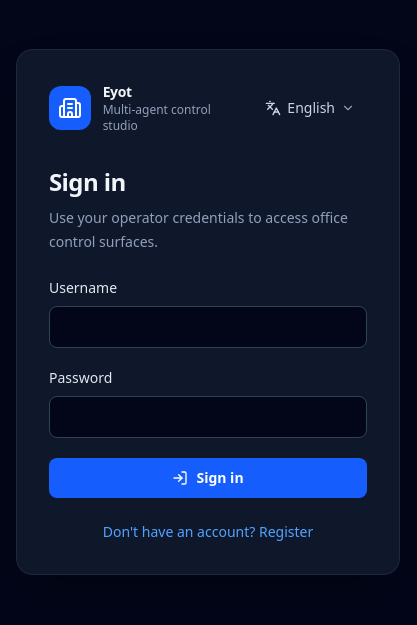
Test case: LoginPage › shows an authentication error after a 401 response
Type "operator" into the field labelled "Username". click: coordinates (208, 327)
box: [49,306,367,348]
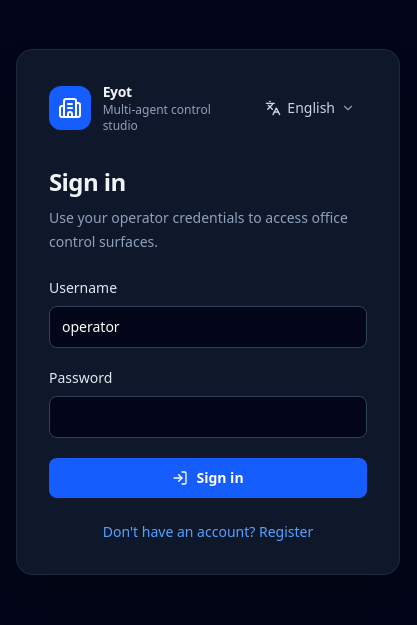
Type "wrong-pass" into the password field labelled "Password". click: coordinates (208, 417)
box: [49,396,367,438]
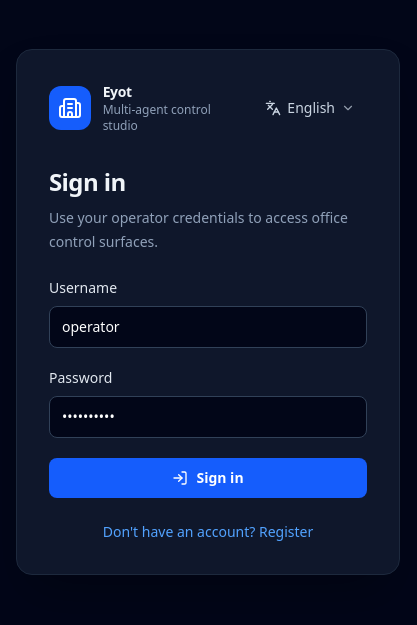
Click the button "Sign in". click: coordinates (208, 478)
box: [49,458,367,498]
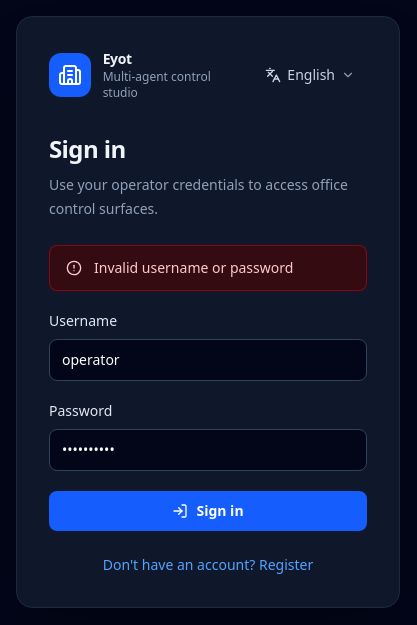
Now the message reads "Invalid username or password", box [94,258,293,277]
